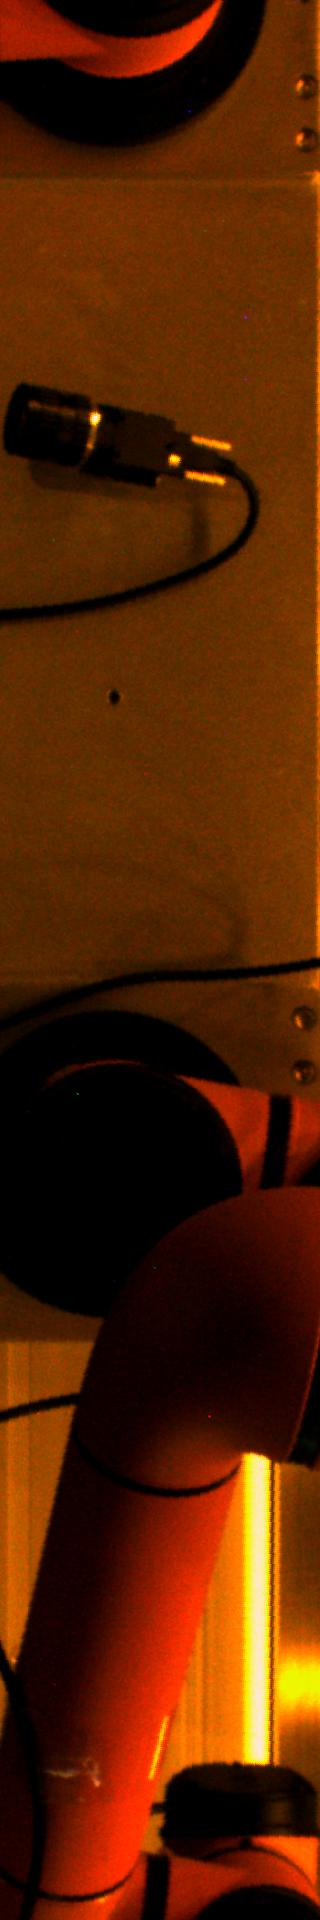keyPoint_2: (98, 683, 128, 713)
